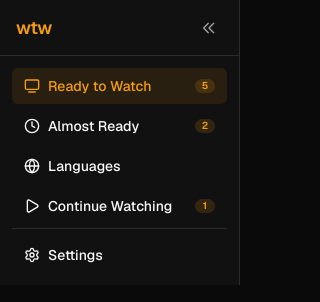
Test: Sidebar › collapsed mode › toggles back to expanded
The image size is (320, 302).
Click the button named "Collapse sidebar" at (209, 28), box left=195, top=14, right=223, bottom=42
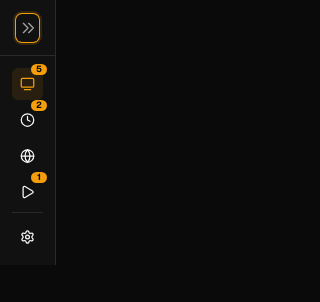
Now the link "Ready to Watch" is gone
Click the button named "Expand sidebar" at (28, 28), box left=16, top=14, right=39, bottom=42
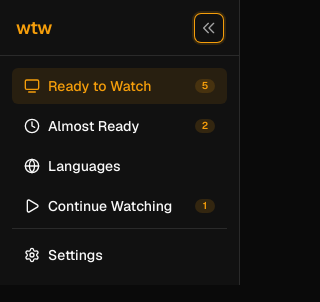
Now the text "Ready to Watch" is shown, box left=48, top=77, right=152, bottom=95
